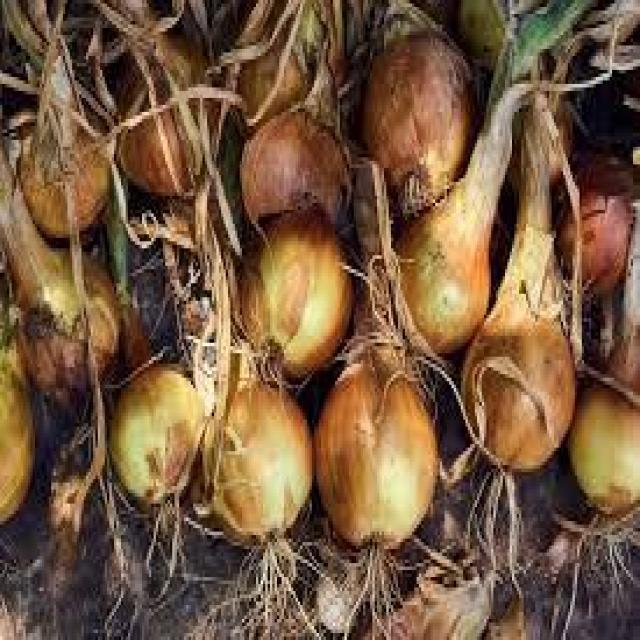Onion: (314, 339, 440, 560), (240, 201, 356, 390), (461, 302, 579, 474), (0, 241, 121, 406), (368, 21, 470, 210), (206, 386, 313, 551), (116, 45, 221, 203), (240, 101, 360, 228), (392, 201, 490, 352), (110, 369, 204, 509), (23, 101, 116, 238), (227, 10, 318, 140), (557, 150, 632, 294), (570, 381, 640, 514), (0, 314, 37, 524)
